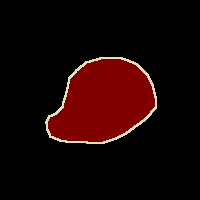hat: (46, 57, 156, 143)
